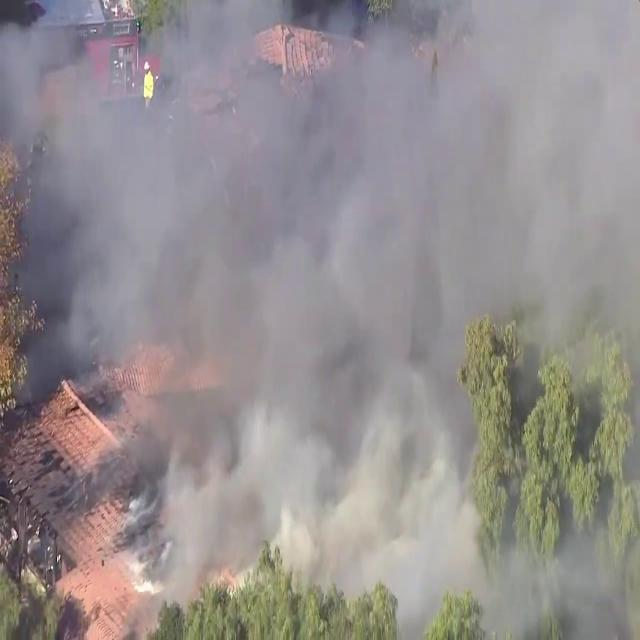Smoke: (1, 1, 638, 623)
